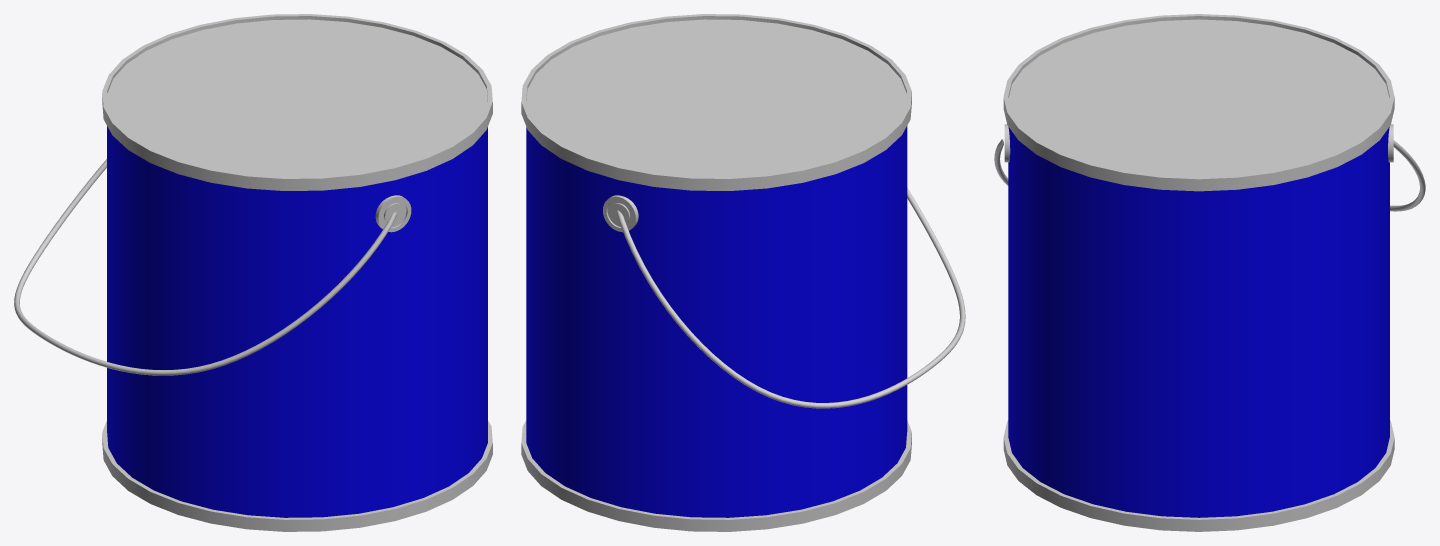
Rendered from Paint Can.fbx.
The picture shows the model from 3 angles, left to right: view 1: azimuth 30°, elevation 25°; view 2: azimuth 150°, elevation 25°; view 3: azimuth 270°, elevation 25°; orthographic projection.
Visible parts, largest first — view 1: Kaleng Cat Usang; view 2: Kaleng Cat Usang; view 3: Kaleng Cat Usang.
Boxes of the visible parts, x1,y1,x2,y2 form: Kaleng Cat Usang: (14,14,492,531); Kaleng Cat Usang: (521,14,965,531); Kaleng Cat Usang: (994,14,1425,531).
Size of the model in its own units: 247 by 204 by 226.
